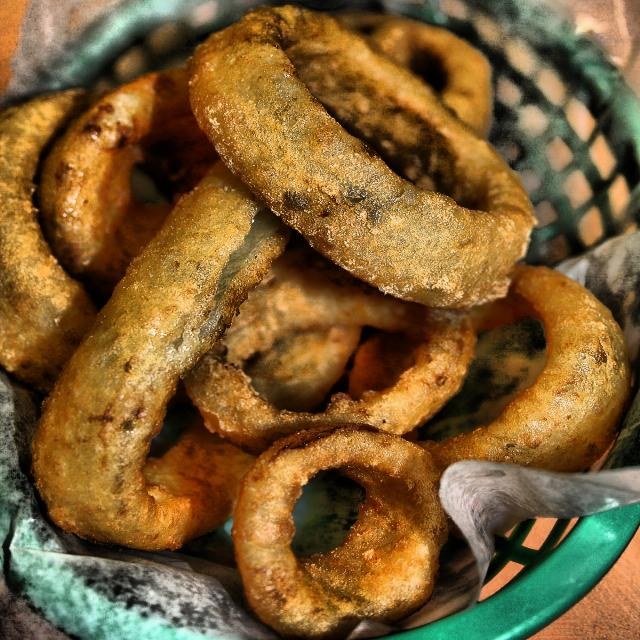onion: (28, 23, 603, 625)
